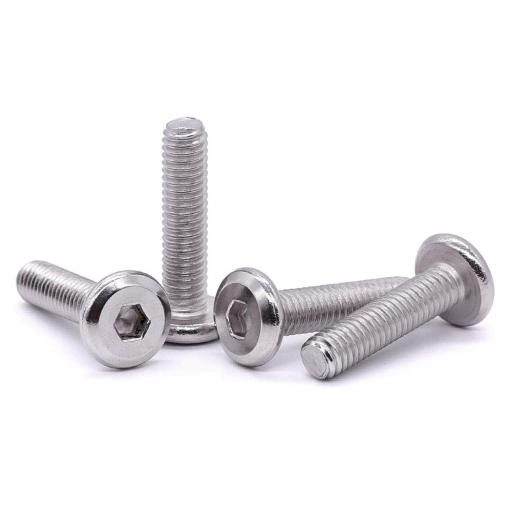Hex-Allen: (81, 268, 168, 372)
